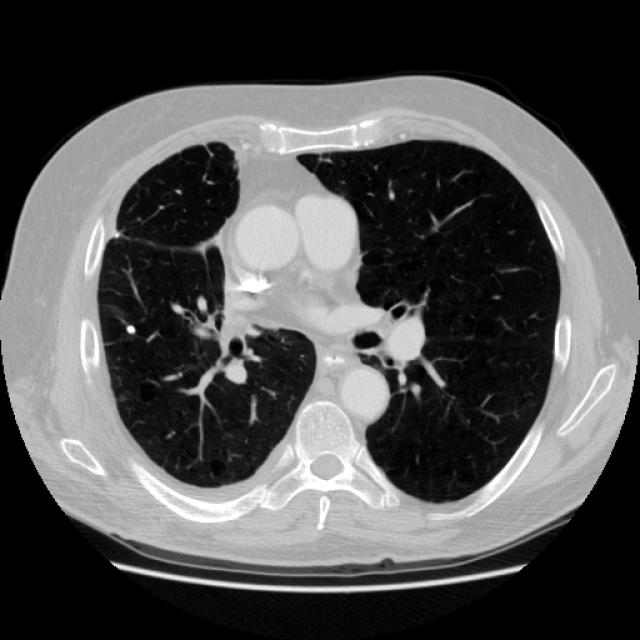nodule: (119, 318, 141, 340)
